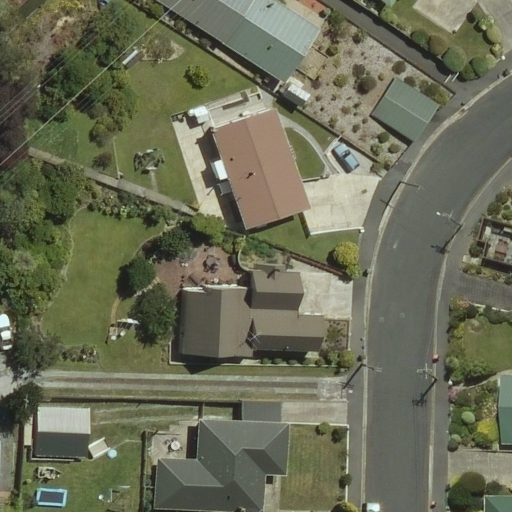DT: (433, 205, 466, 233), (414, 356, 441, 386)
